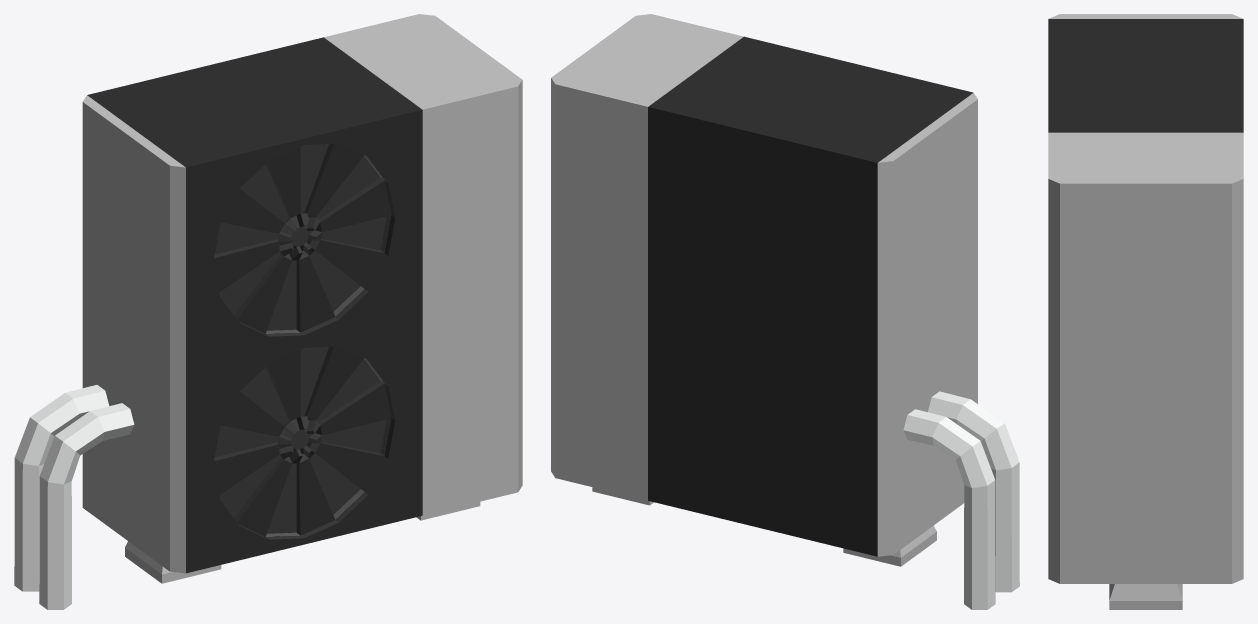
File: RoofAcc_Unit.fbx
3 views of the same model, side by side, from view 1: azimuth 30°, elevation 25°; view 2: azimuth 150°, elevation 25°; view 3: azimuth 270°, elevation 25° (orthographic). The views are drawn at different scales.
Parts seen in each view (by area): view 1: RoofAcc_Unit; view 2: RoofAcc_Unit; view 3: RoofAcc_Unit.
Part boxes in pixels (x1=…): RoofAcc_Unit: x1=14, y1=14, x2=522, y2=609; RoofAcc_Unit: x1=551, y1=14, x2=1019, y2=609; RoofAcc_Unit: x1=1048, y1=14, x2=1243, y2=609.
Size of the model in its own units: 61.73 by 61.38 by 24.3.
